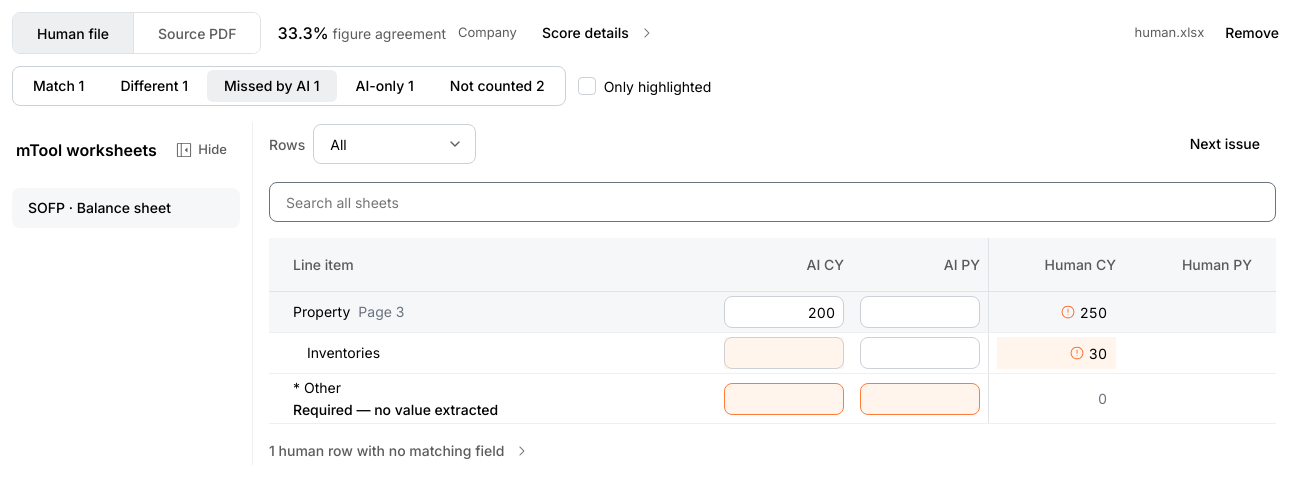
Test case: figures view with a human file › an excluded human zero does not appear among missed figures
The image size is (1304, 482).
Expected: the element with test id "human-comparison-tiles" is shown, [12,66,711,106]
Click the checkbox labelled "Only highlighted" at (587, 86), box [578,77,596,95]
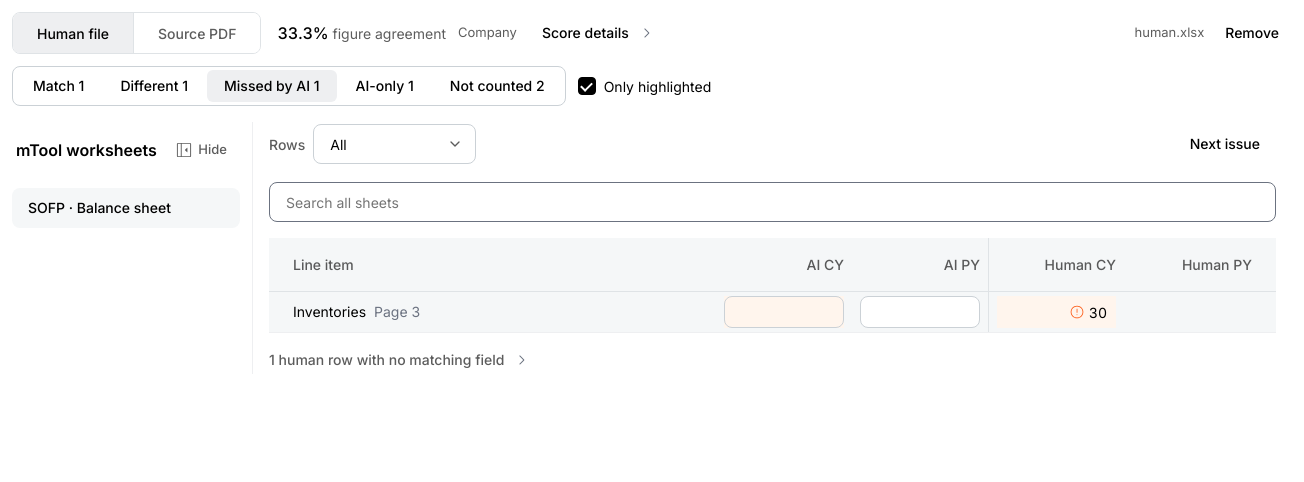
Expected: the list item with test id "concept-row-inv" is shown, [269,292,1276,333]
Result: the list item with test id "concept-row-zero" is gone
Result: the list item with test id "concept-row-ppe" is gone
